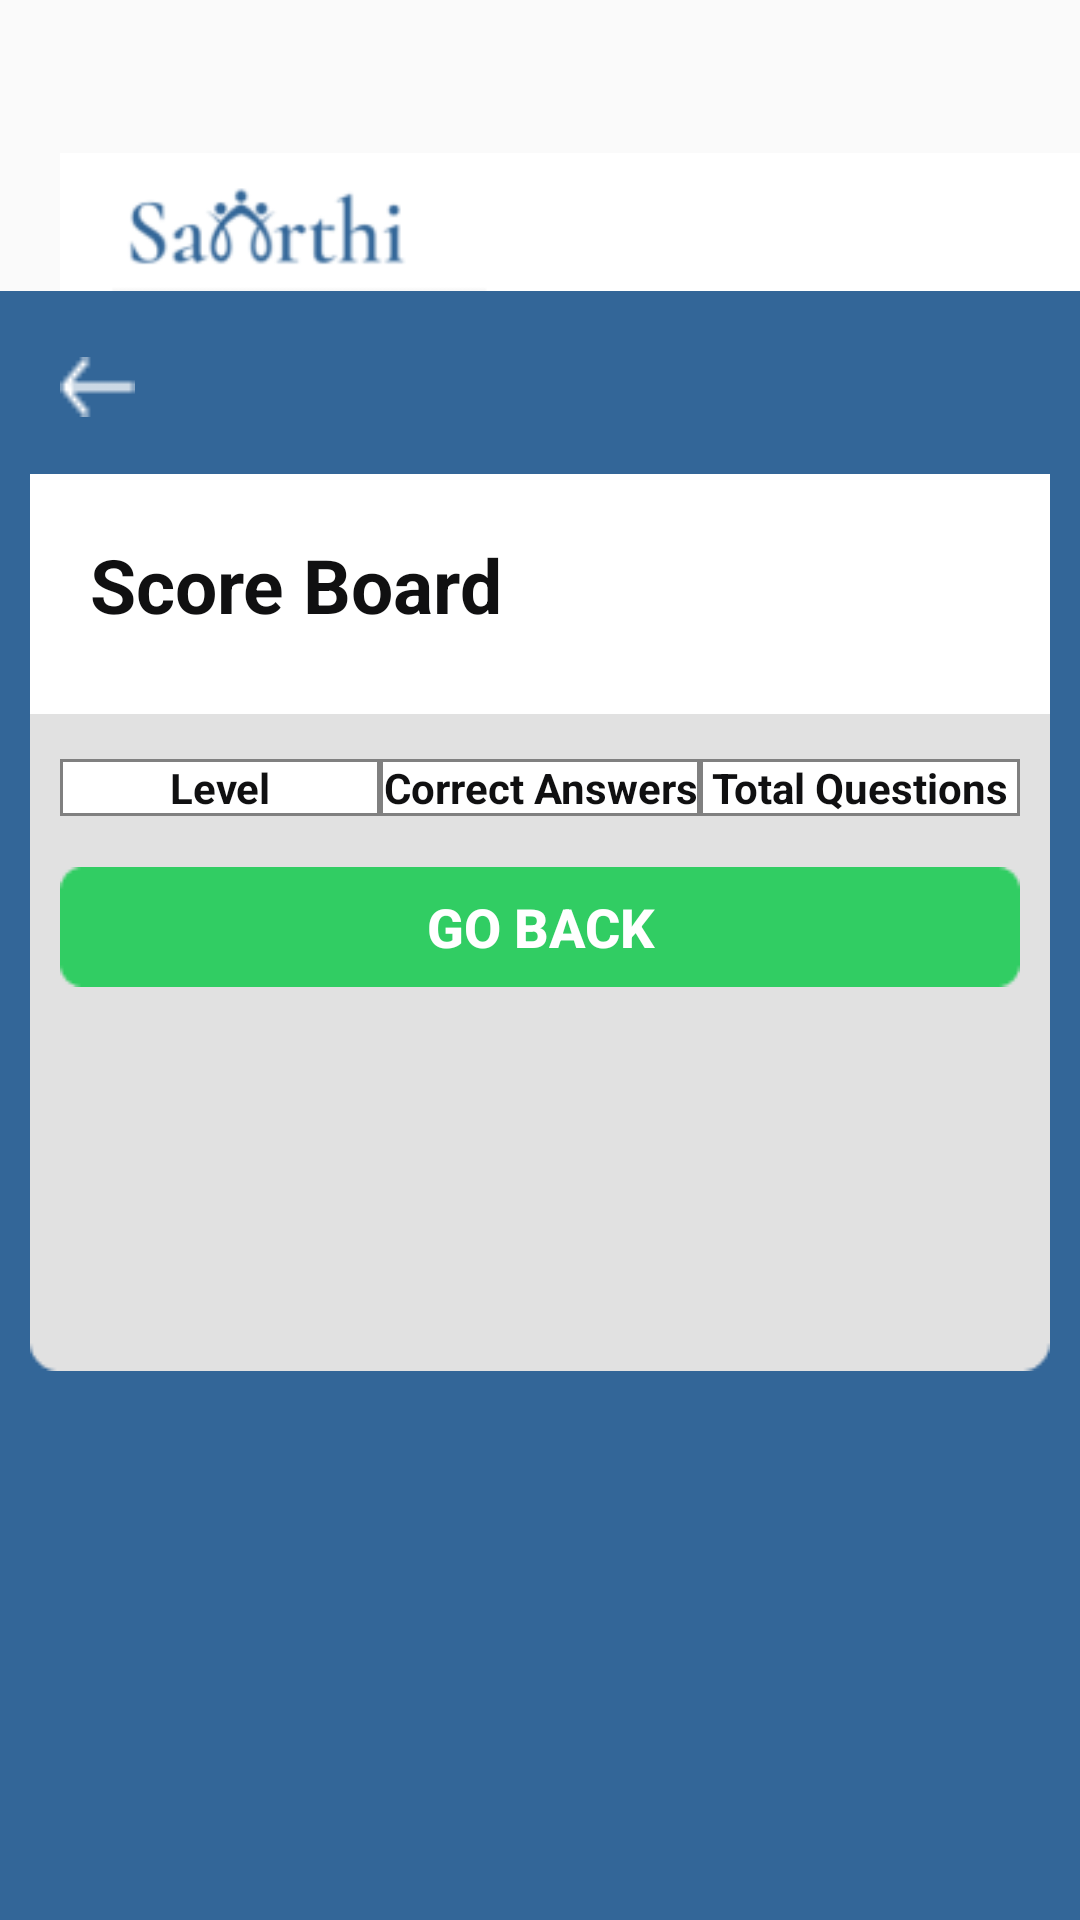

Named icons in this screenshot (1080w x 1920h) and their centers, point (x, y):
backbutton: point (97, 387)
